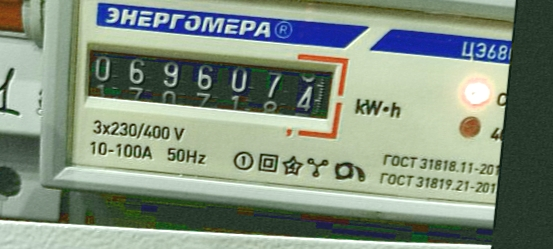0: (91, 49, 113, 80), (227, 61, 248, 90)
4: (293, 80, 314, 110)
6: (125, 53, 146, 82), (194, 58, 214, 88)
7: (261, 65, 283, 97)
9: (159, 57, 179, 86)
screen: (67, 24, 353, 138)
